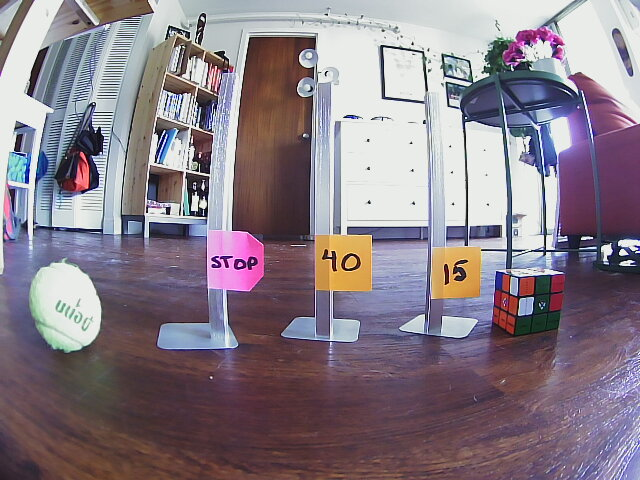15: (429, 245, 481, 299)
40: (314, 236, 374, 291)
ball: (29, 260, 101, 353)
cube: (493, 269, 566, 336)
stop: (205, 230, 265, 291)
